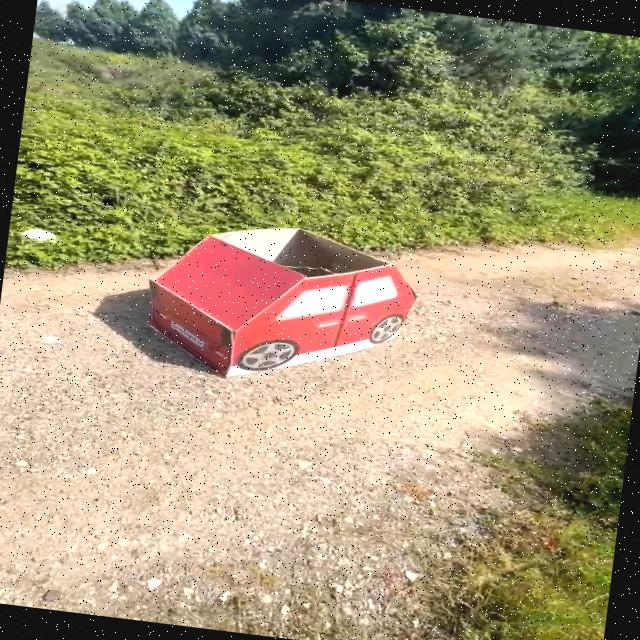red_car: (93, 196, 447, 406)
